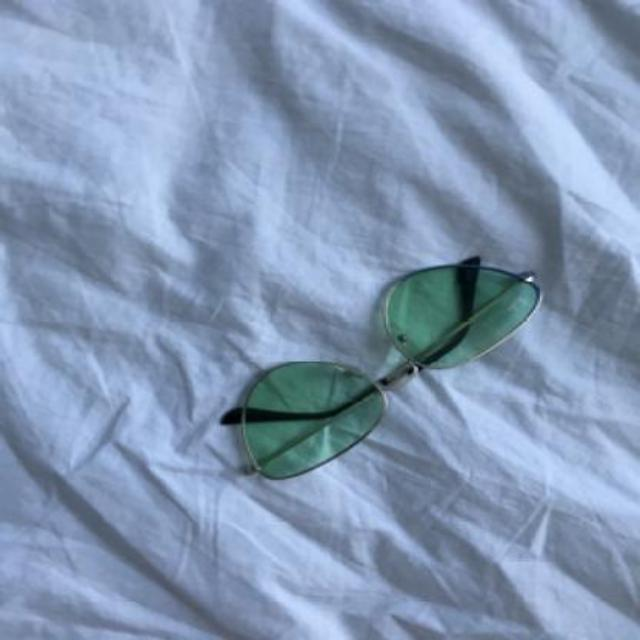glasses: (216, 253, 546, 482)
